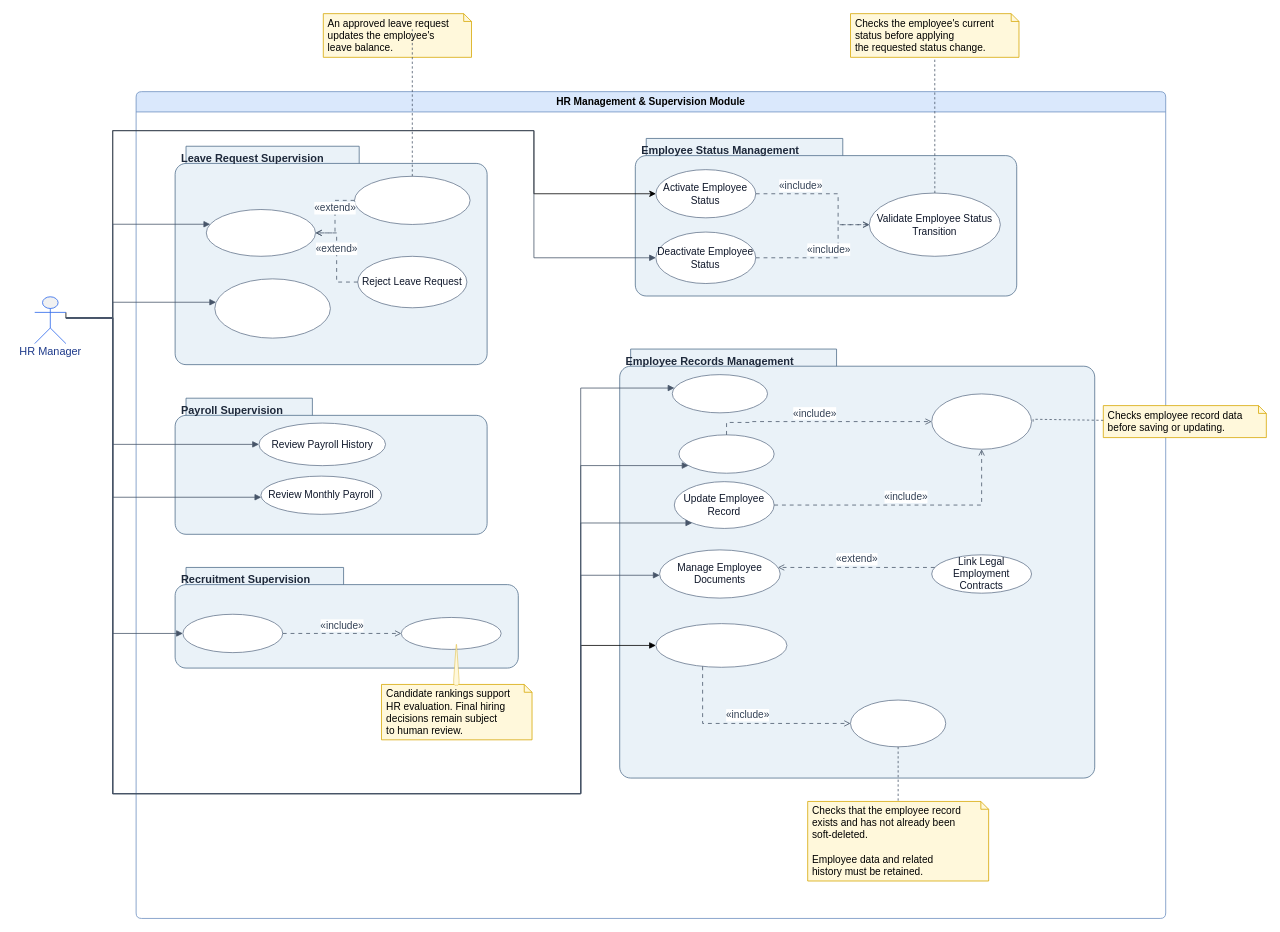
This 1280x932 diagram has some shape labels left out. Each missing label, with the centre of its shape:
"Approve Leave Request" goes at pixel 412 200.
"Create Employee Record" goes at pixel 726 453.
"Evaluate Candidate Rankings" goes at pixel 451 633.
"Monitor Employee Leave Balances" goes at pixel 272 308.
"Review AI Screening Results" goes at pixel 232 633.
"Review Leave Requests" goes at pixel 261 232.
"Soft Delete Employee Record" goes at pixel 721 645.
"Validate Employee Deletion" goes at pixel 898 723.
"Validate Employee Record Data" goes at pixel 981 421.
"View Employee Records" goes at pixel 720 393.
